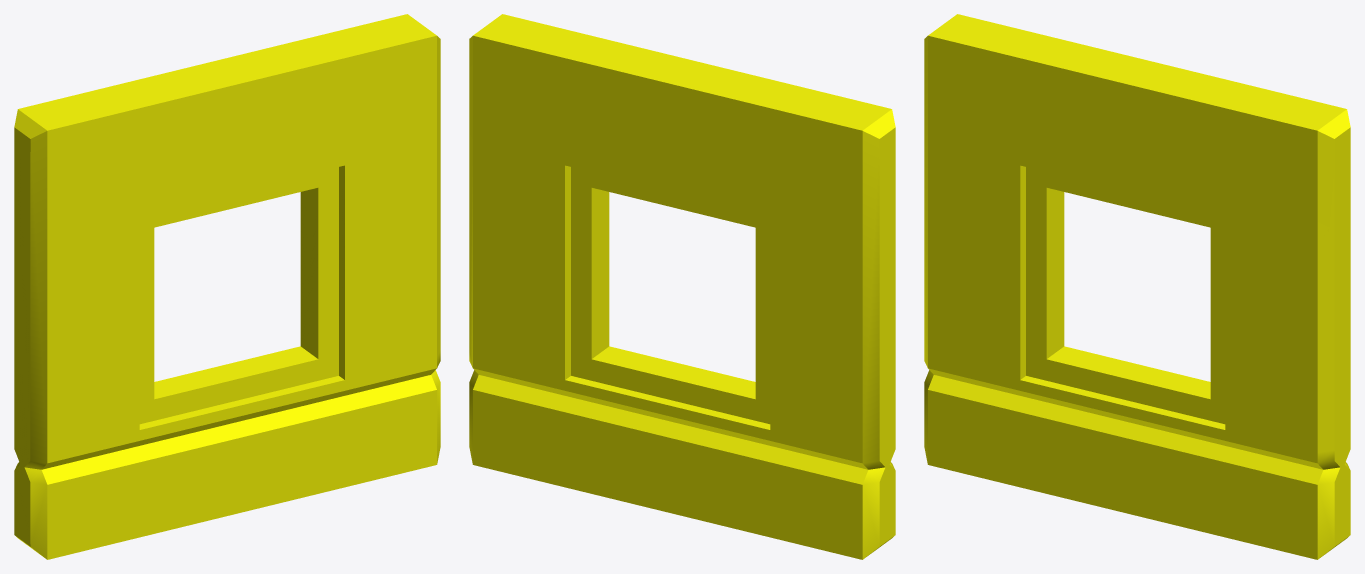
Rendered from kaykit-prototype-wall-window-open.glb.
3 views of the same model, side by side, from view 1: azimuth 30°, elevation 25°; view 2: azimuth 150°, elevation 25°; view 3: azimuth 330°, elevation 25° (orthographic).
Visible parts, largest first — view 1: Wall_Window_Open; view 2: Wall_Window_Open; view 3: Wall_Window_Open.
Boxes of the visible parts, x1=… form: Wall_Window_Open: x1=14, y1=14, x2=440, y2=559; Wall_Window_Open: x1=469, y1=14, x2=895, y2=559; Wall_Window_Open: x1=924, y1=14, x2=1350, y2=559.
Bounding box in the file's own units: 4 × 4 × 0.5298.
